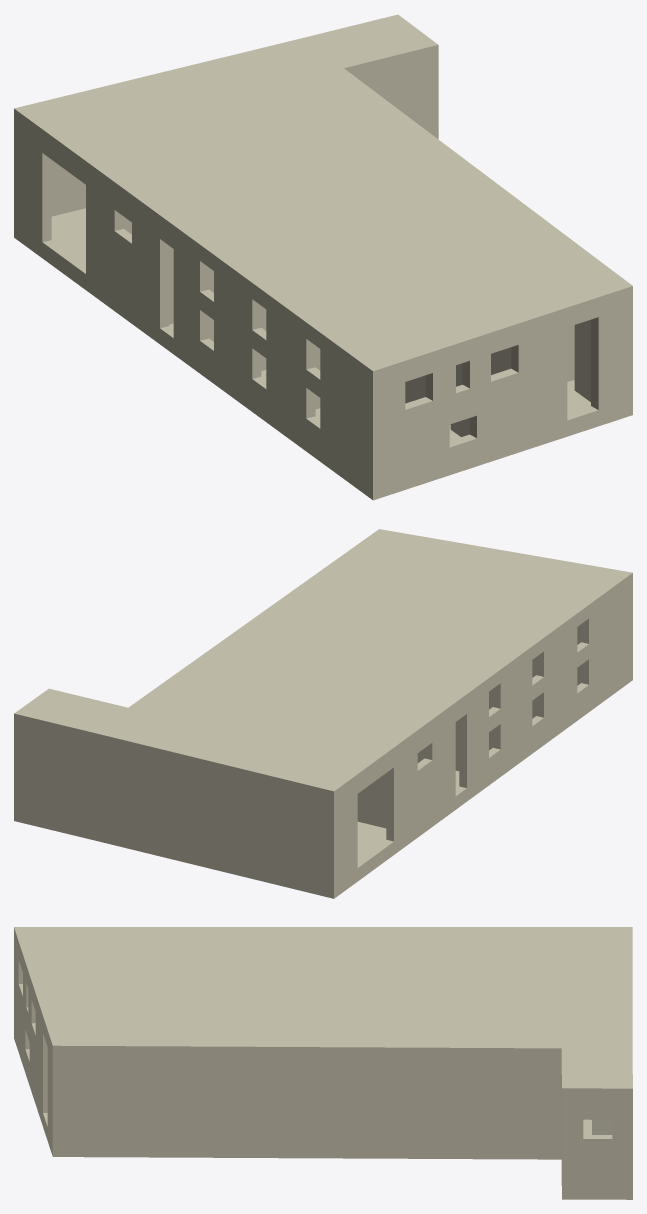
Rendered from Baker_home_5.fbx.
3 renders of one model, top to bottom at view 1: azimuth 30°, elevation 25°; view 2: azimuth 150°, elevation 25°; view 3: azimuth 270°, elevation 25°, orthographic. The views are drawn at different scales.
Visible parts, largest first — view 1: Volume; view 2: Volume; view 3: Volume.
Boxes of the visible parts, <box> form: Volume: <box>14,14,632,500</box>; Volume: <box>14,529,632,898</box>; Volume: <box>14,927,632,1199</box>.
Size of the model in its own units: 1246 by 400 by 2018.
